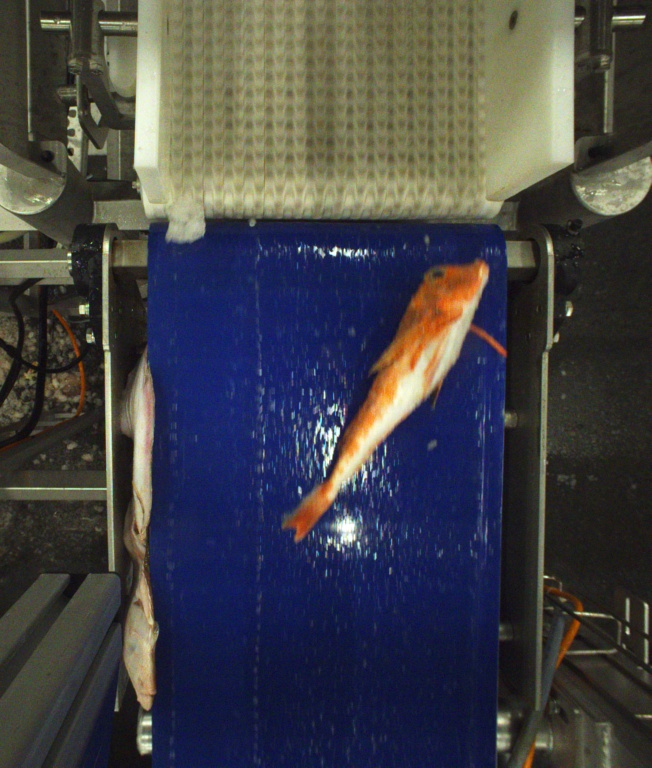GUU: (282, 260, 491, 544)
